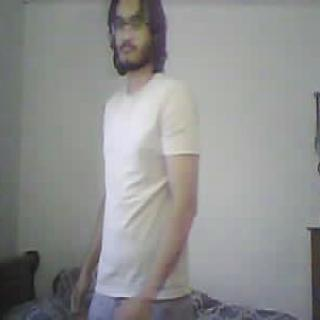Yellow T-Shirt: (90, 70, 202, 300)
